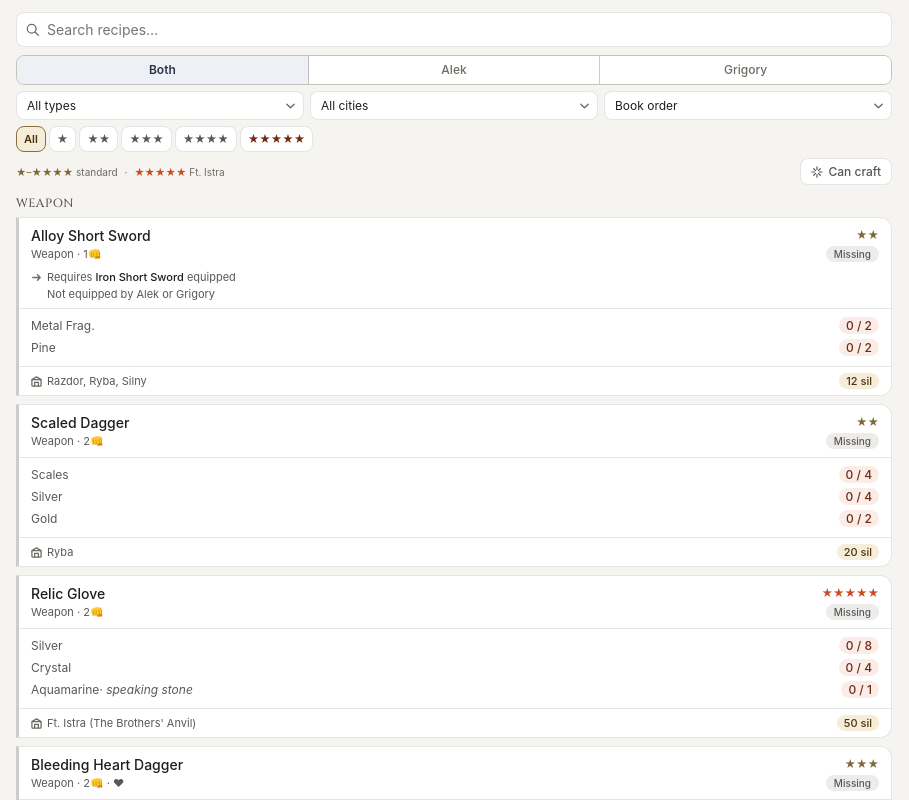
Test case: CraftTab — upgrade comparison › shows a downgrade with a true minus sign, and mutes it
What coordinates should you click on to do the following:
click the button "Grigory"
I would click on:
 (746, 70)
Its box is x1=600 y1=56 x2=891 y2=84.
(page scrolled)
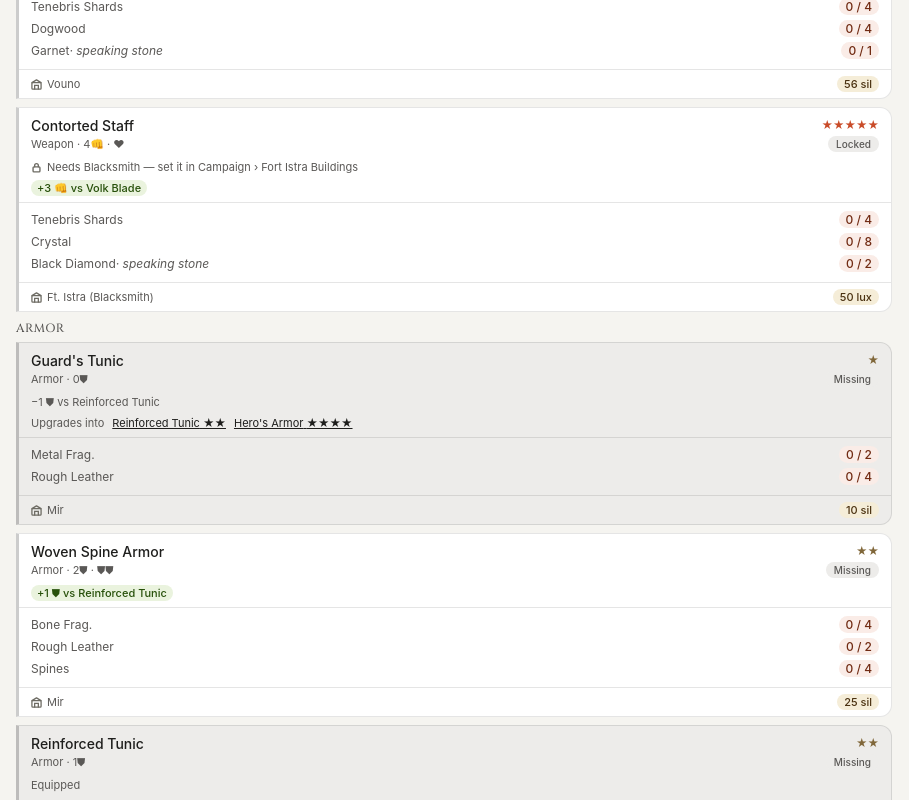
Now the element with class "craft-upgrade" reads "−1 ⛊ vs Reinforced Tunic", box x1=31 y1=395 x2=160 y2=409
